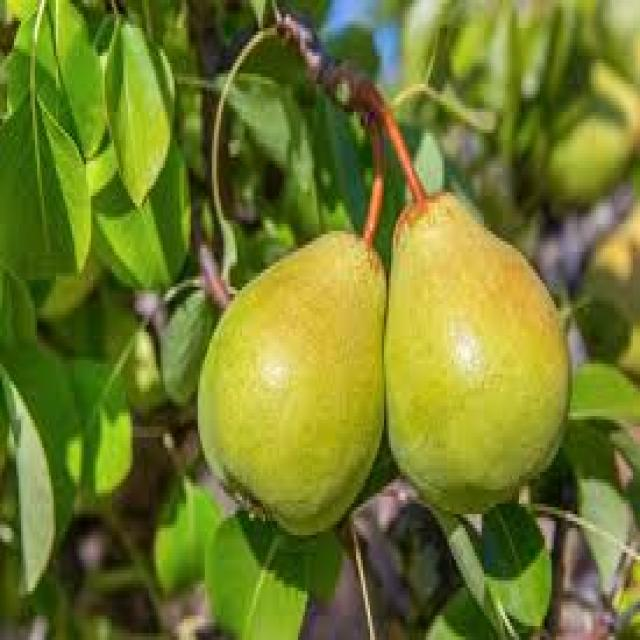pear: (388, 137, 574, 518), (193, 178, 384, 542)
